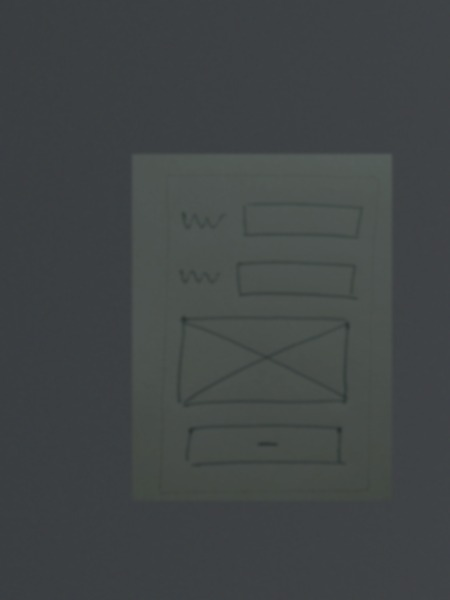button: (182, 422, 353, 469)
image: (174, 311, 352, 410)
text: (177, 205, 229, 234), (175, 263, 223, 293)
text_input: (238, 198, 368, 245), (232, 256, 361, 303)
